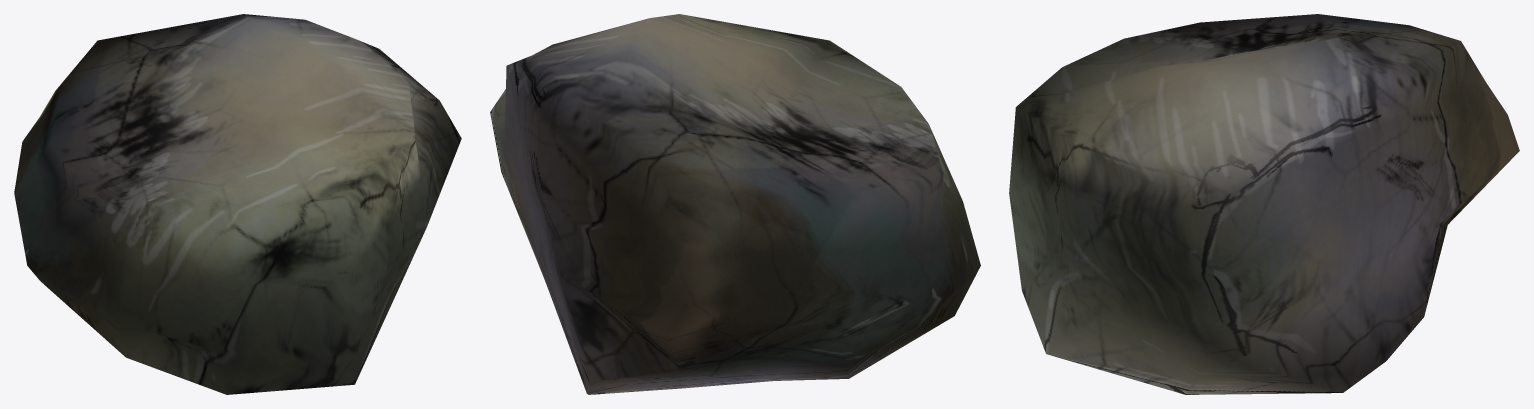
The model's file is Rock_01D.fbx.
3 views of the same model, side by side, from view 1: azimuth 30°, elevation 25°; view 2: azimuth 150°, elevation 25°; view 3: azimuth 270°, elevation 25° (orthographic). The views are drawn at different scales.
Visible parts, largest first — view 1: Rock04:Mesh; view 2: Rock04:Mesh; view 3: Rock04:Mesh.
Boxes of the visible parts, bbox=[...] form: Rock04:Mesh: bbox=[14, 14, 461, 394]; Rock04:Mesh: bbox=[490, 14, 980, 394]; Rock04:Mesh: bbox=[1009, 14, 1519, 394].
Bounding box in the file's own units: 8.5 × 6.04 × 7.85.
